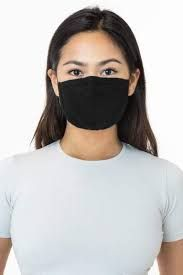with-mask: (44, 20, 146, 130)
